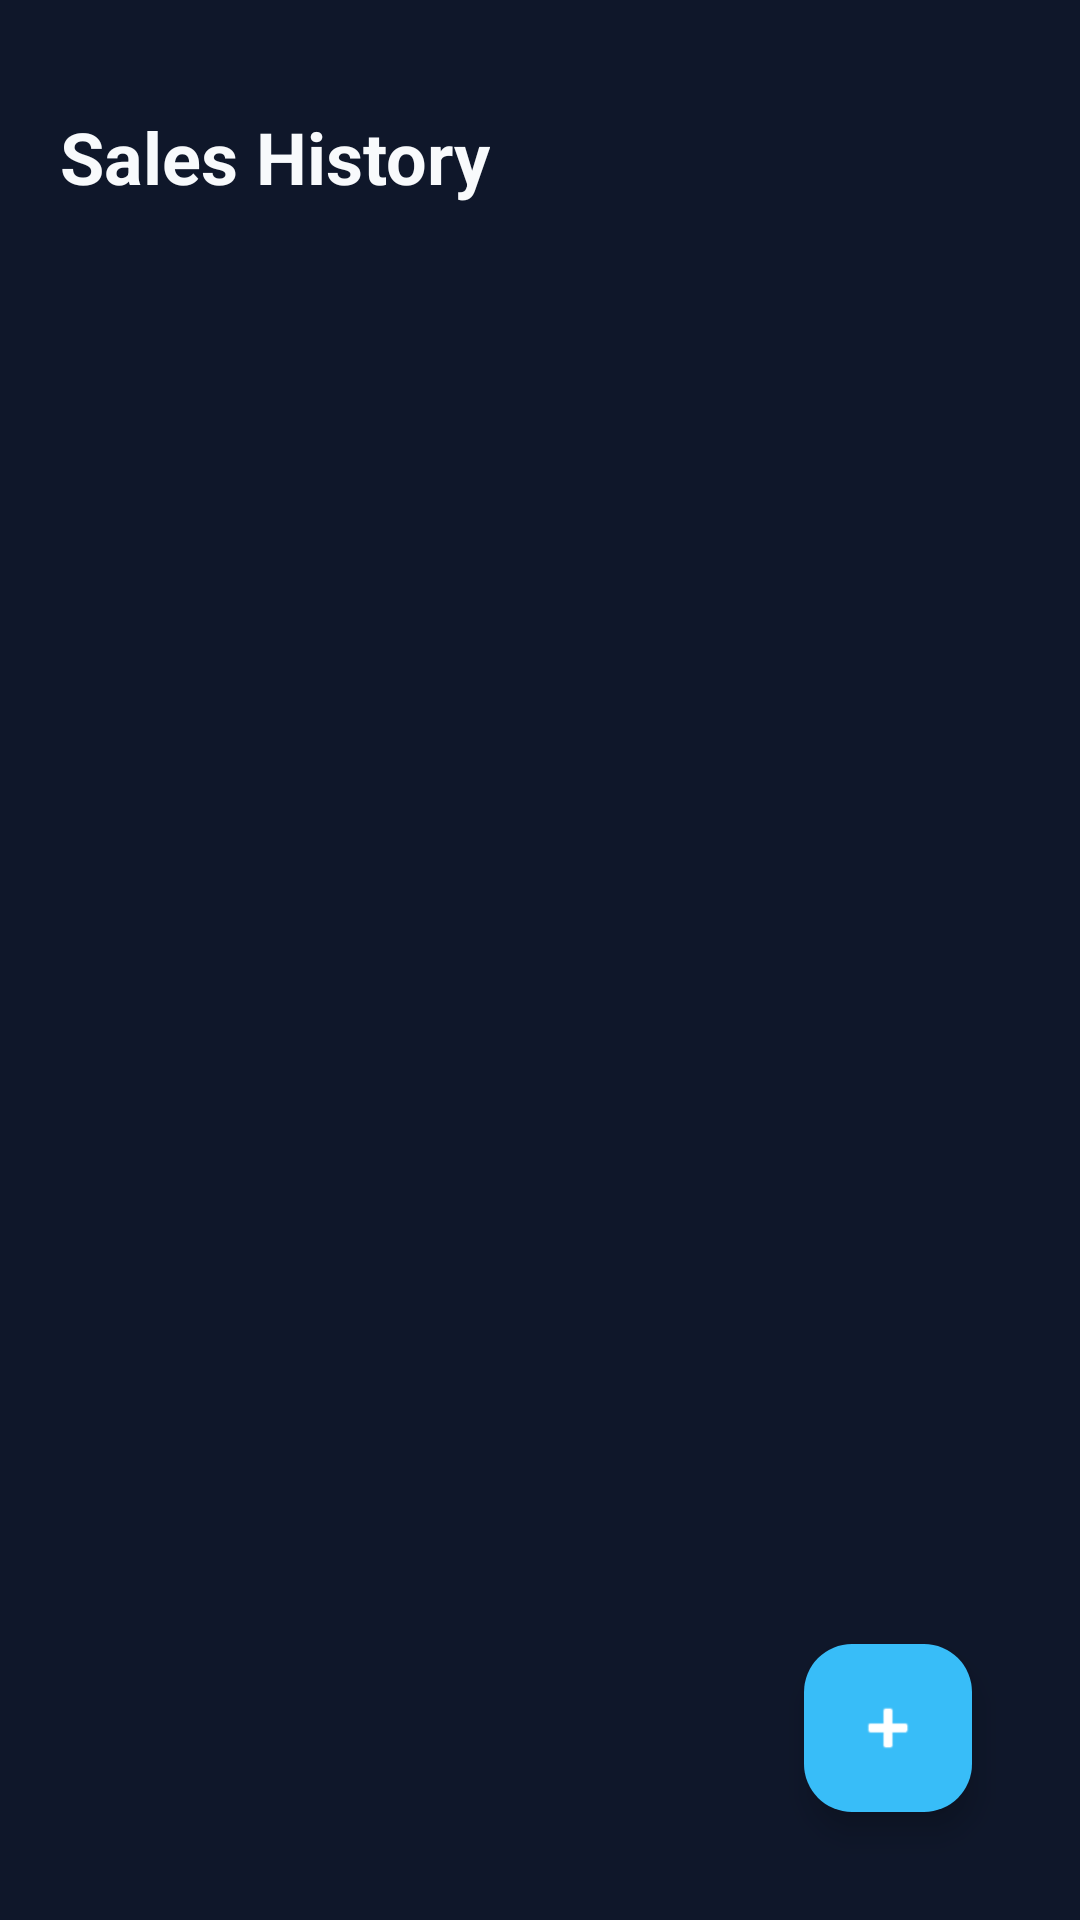

Locate icon controls on the screen. Image size 1080w x 1920h, boxes as (x1, y1, x2, y2).
Add New Sale: (804, 1644, 972, 1812)
